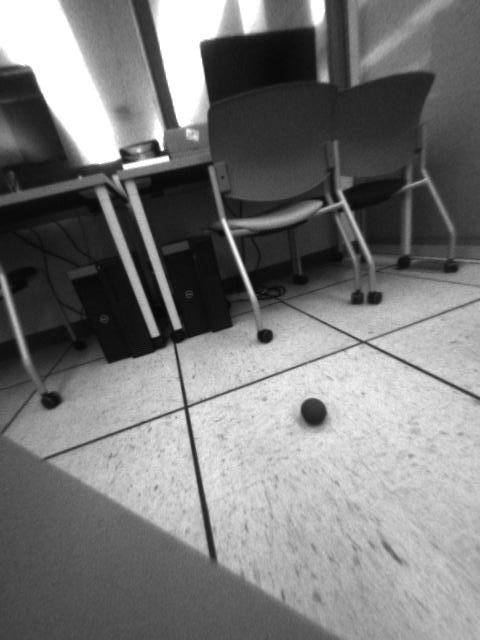dogtoy: (295, 393, 334, 430)
